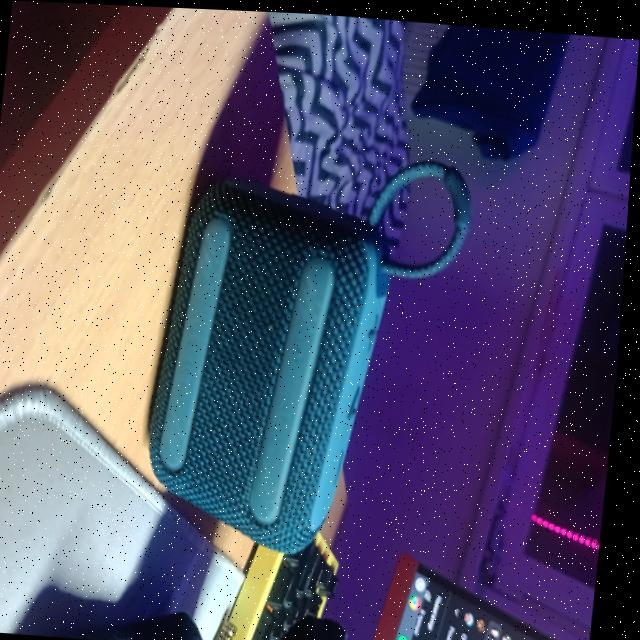column JBL: (155, 216, 391, 547)
